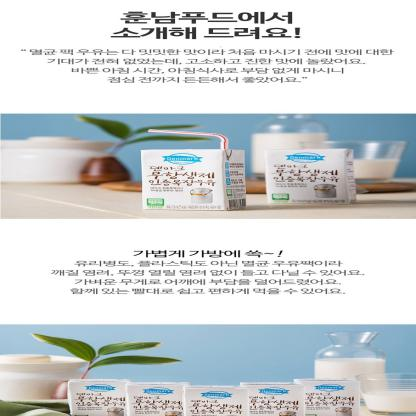tetra: (110, 124, 254, 212), (253, 144, 381, 206)
